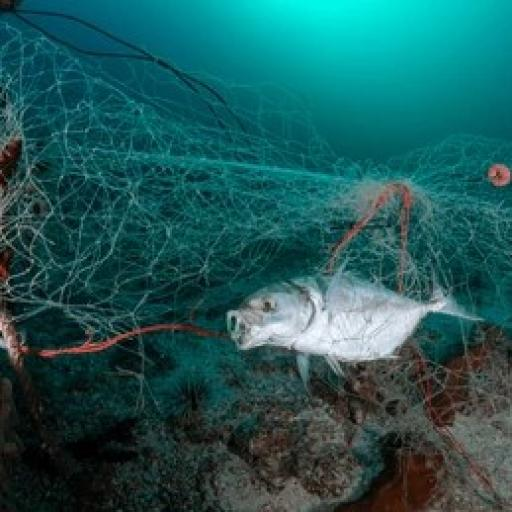net: (0, 19, 512, 373)
